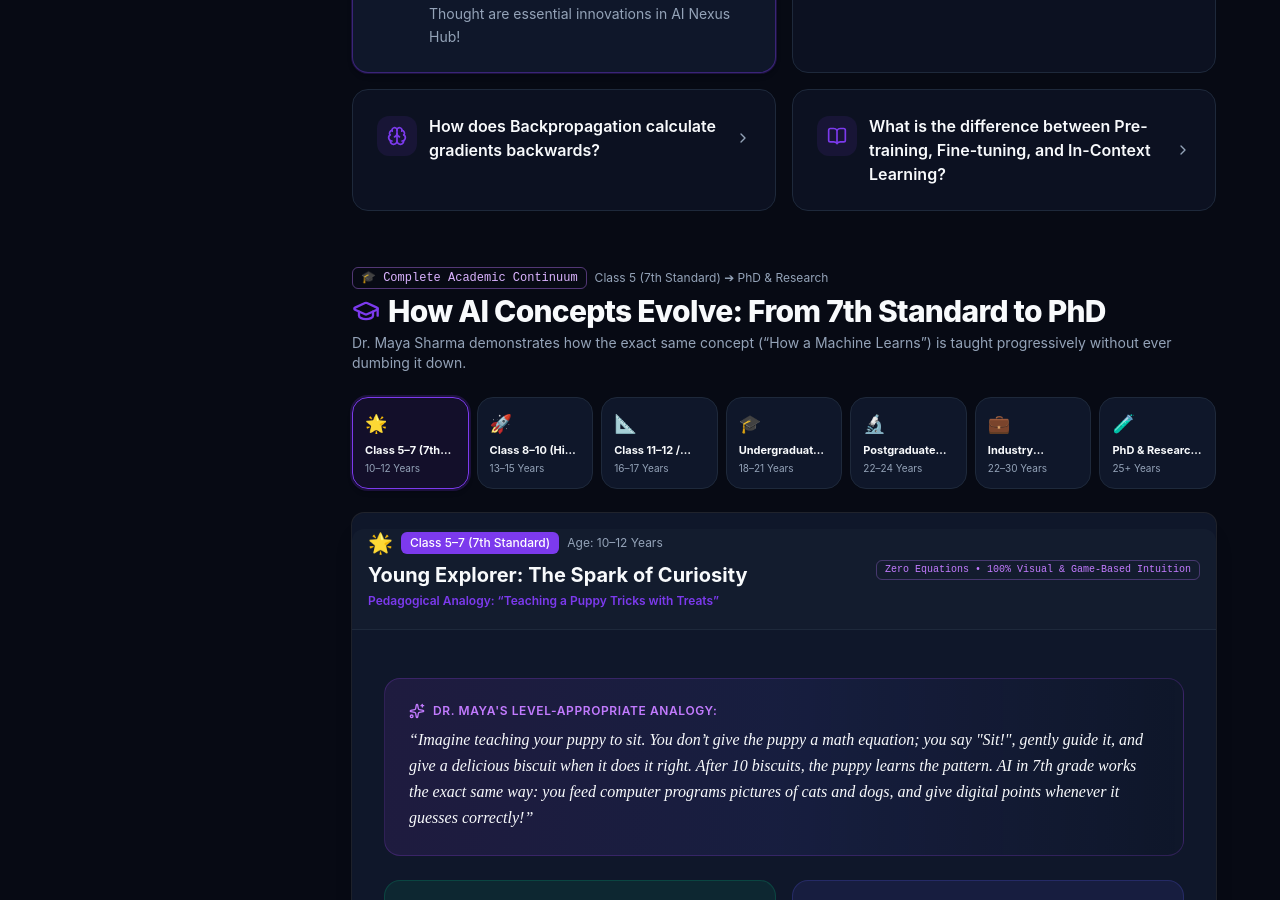
Research & Career Hub with Dr. Maya Sharma AI Mentor › Content Learning / Research Hub (/content-learning) › renders the 7-tier educational continuum from 7th standard to PhD and allows switching tiers
The width and height of the screenshot is (1280, 900).
(page scrolled)
Expected: the heading "How AI Concepts Evolve: From 7th Standard to PhD" is shown, [352,293,1216,329]
Expected: the 1st text "Class 5–7 (7th Standard)" is shown, [365,443,440,474]
# Click on PhD & Research continuum card button
Click the text "PhD & Research (Doctoral / Postdoc)".
click(1158, 451)  # box [1112,442,1203,459]
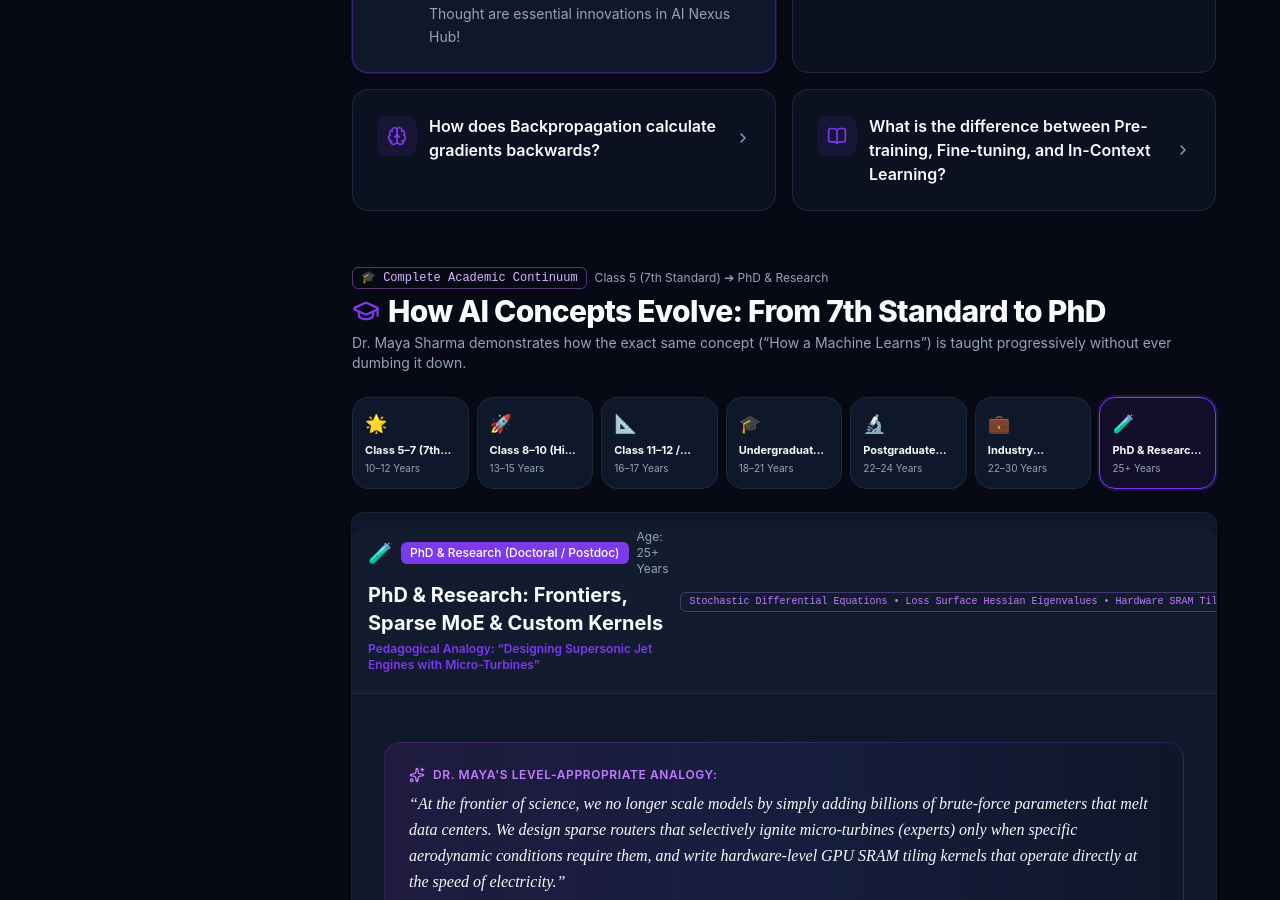
Result: the text "PhD & Research: Frontiers, Sparse MoE & Custom Kernels" is shown at [368,581,668,637]
